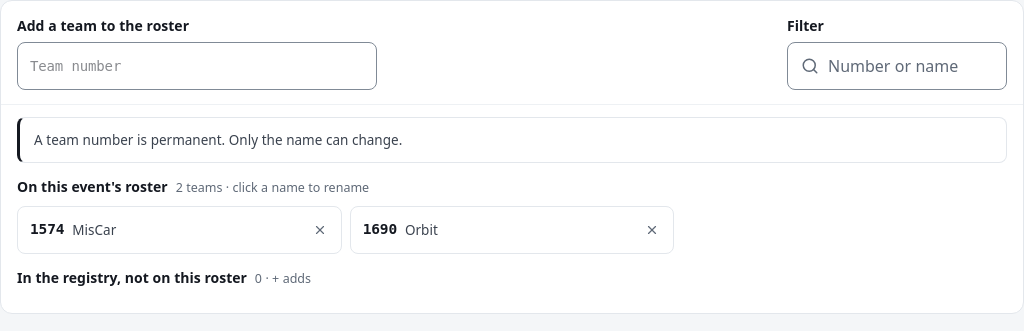
Test: RosterPanel › renames a team in place: click the name, type, Enter
Click the button "Orbit" at (517, 230), box [405,206,629,254]
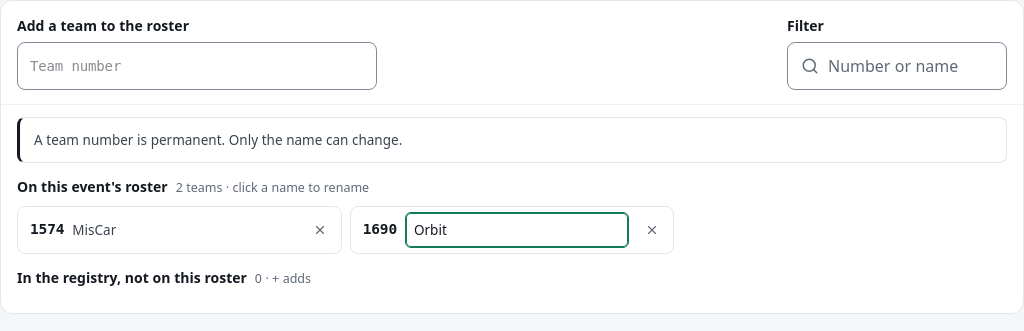
Replace the text in the field named "Team name" with "Orbit 2" at (517, 230), box [405,212,629,248]
Then press Enter
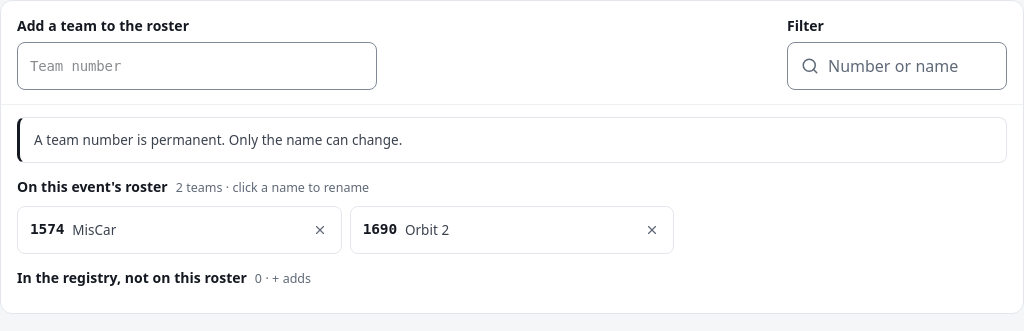
Expected: the button "Orbit 2" is shown, [405,206,629,254]
